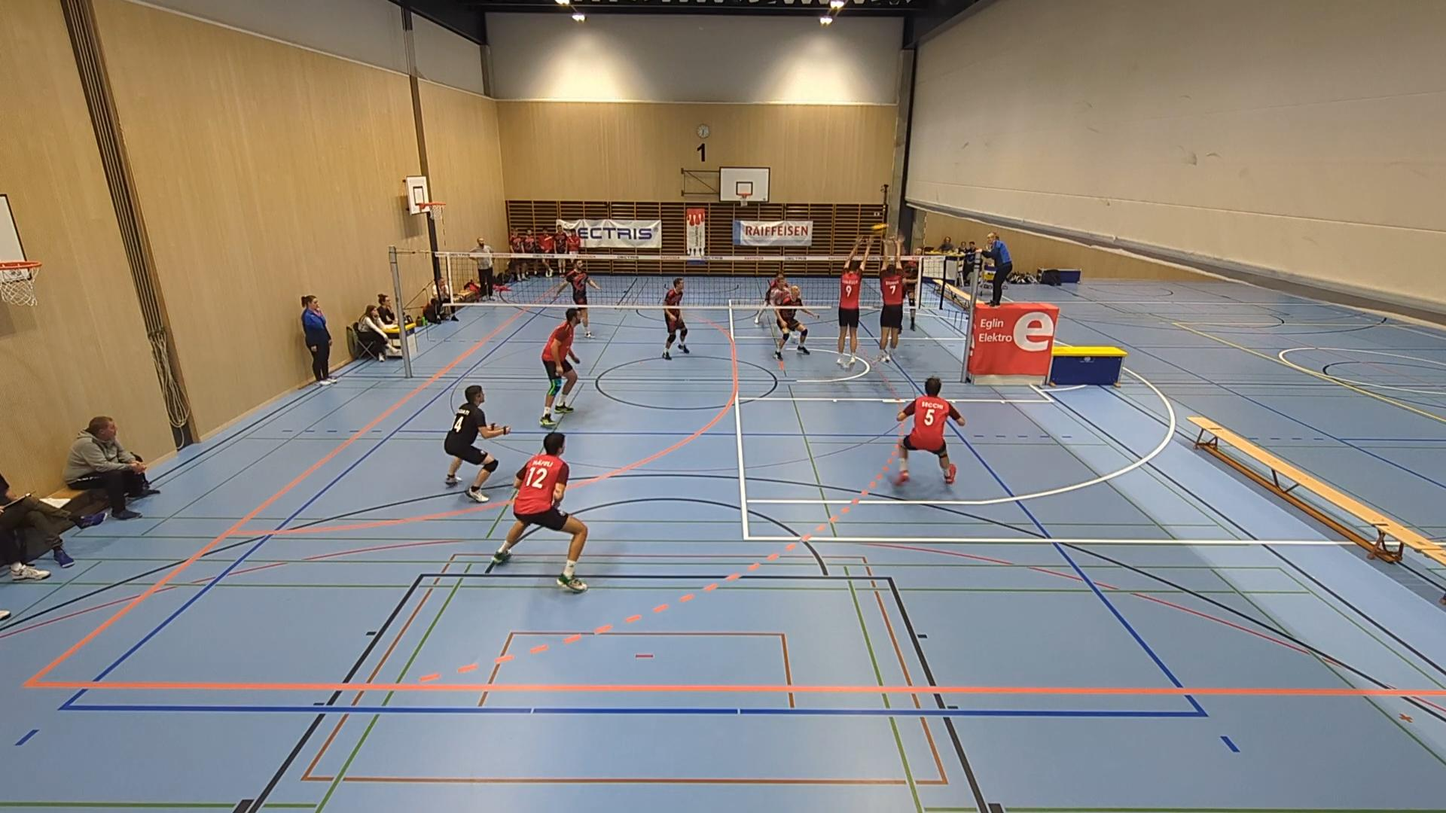attacco: (898, 237, 925, 334)
muro: (831, 234, 871, 369), (876, 234, 903, 368)
